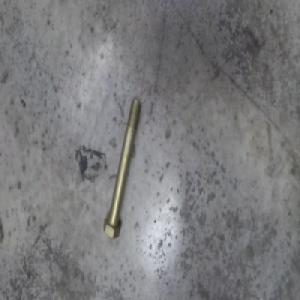Bolt: (101, 103, 142, 243)
